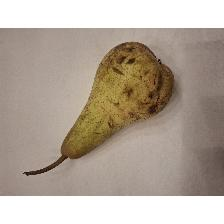Birne: (18, 38, 176, 178)
